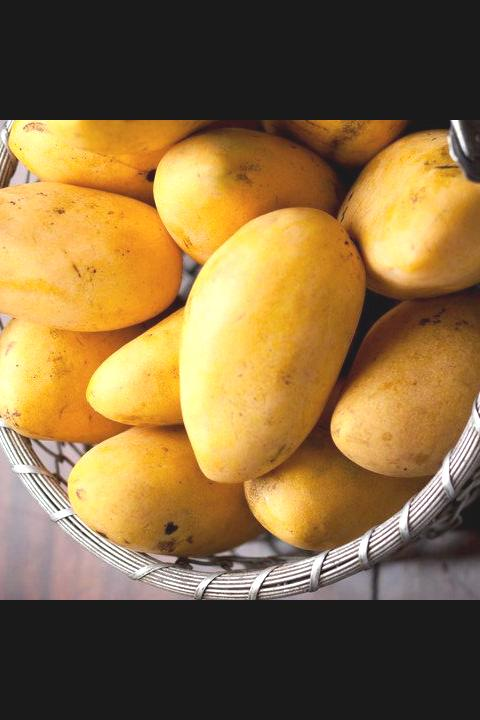xoai: (177, 204, 367, 483), (0, 183, 181, 331)
